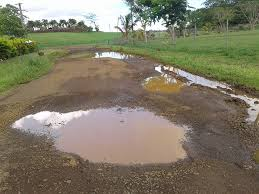pothole: (7, 104, 207, 176), (125, 64, 195, 98)
